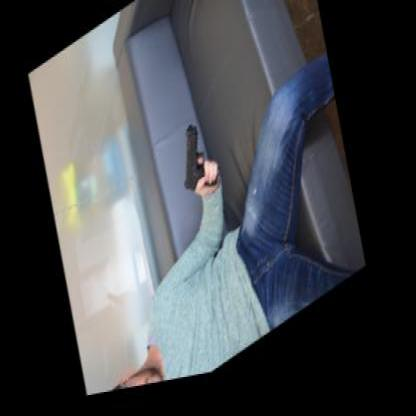pistol: (173, 115, 226, 212)
